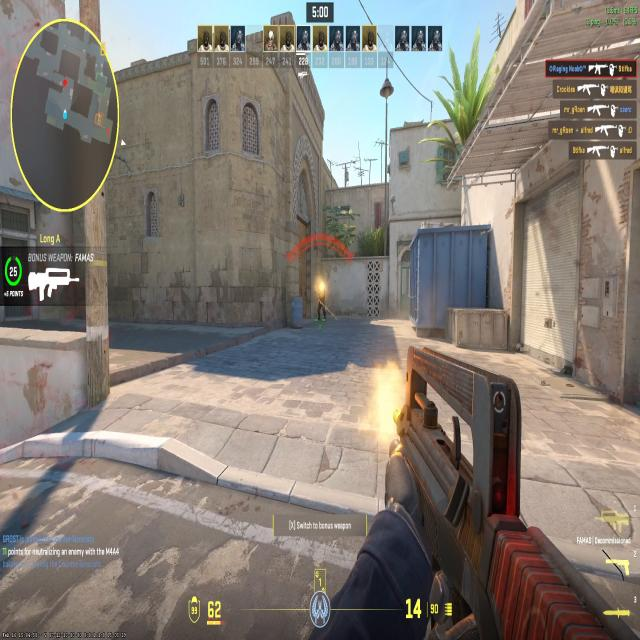player: (317, 274, 328, 326)
